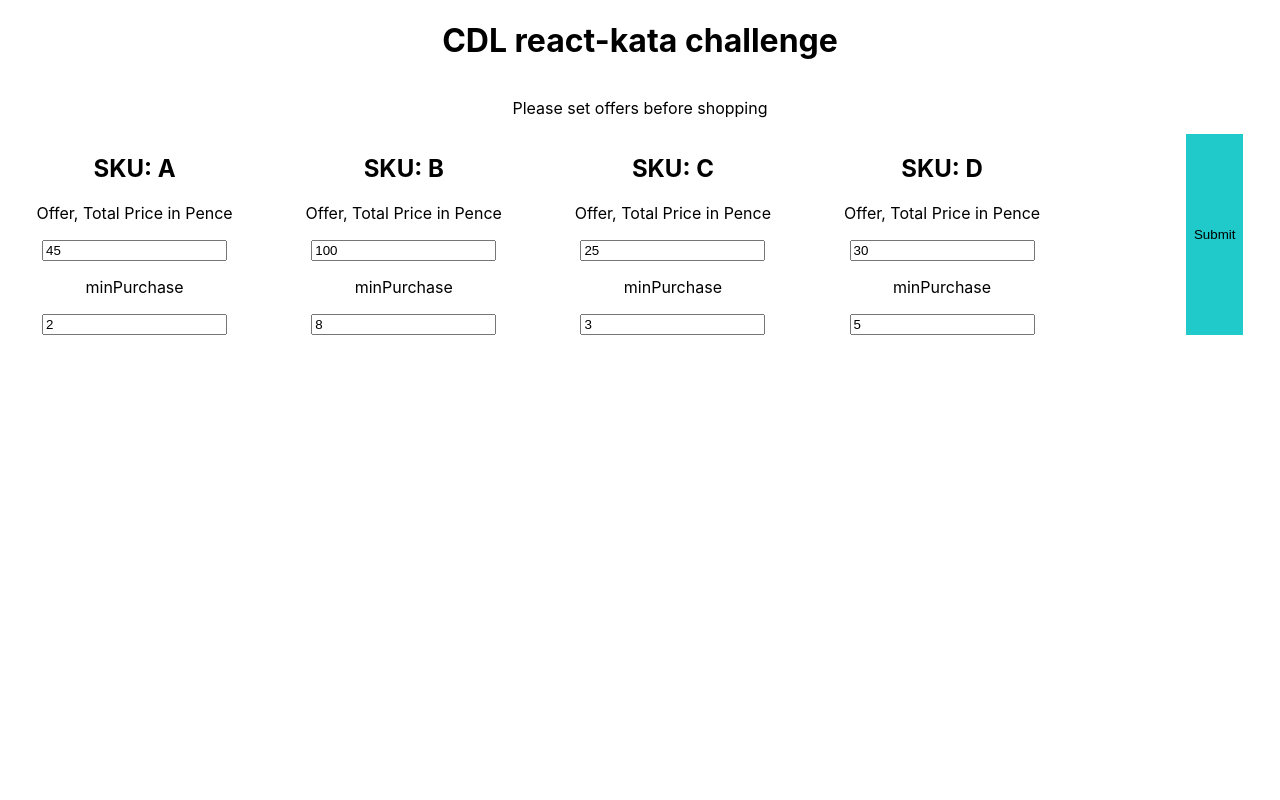
Scenario: CDL Basket Kata › displays new minPurchase when set
Replace the text in the number field with test id "A minimum purchase input" with "8" at (135, 325), box [42,314,227,335]
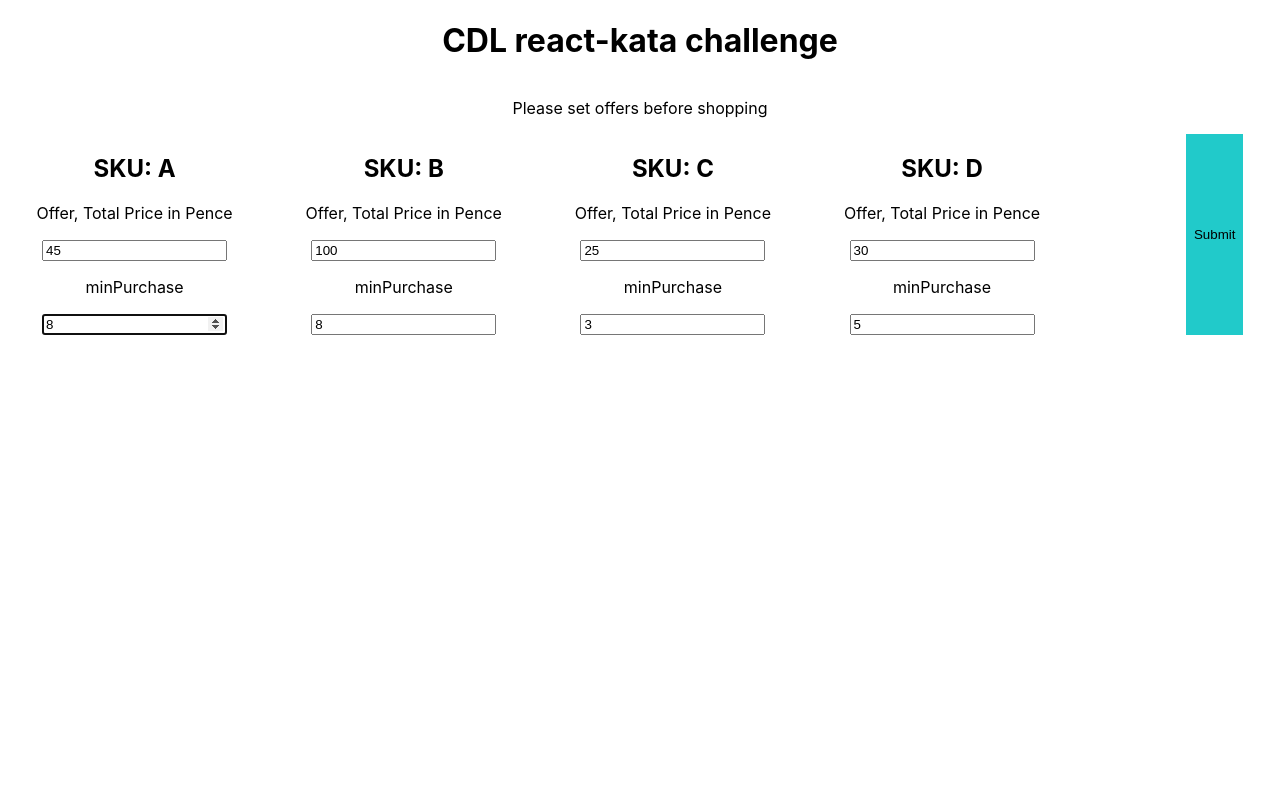
Click the button with test id "SubmitPricingForm" at (1215, 235), box [1186,134,1244,335]
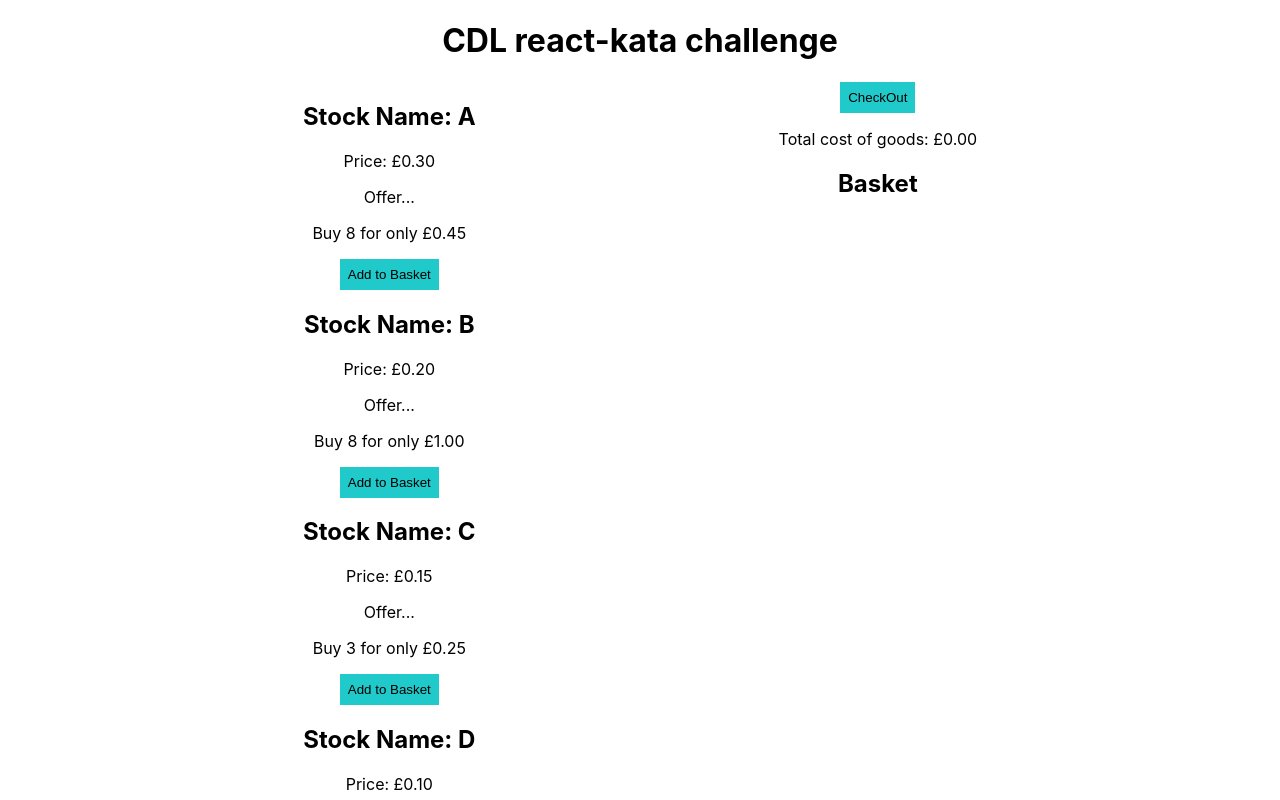
Expected: the text named "A offer" reads "Buy 8 for only £0.45", [303,223,476,243]
